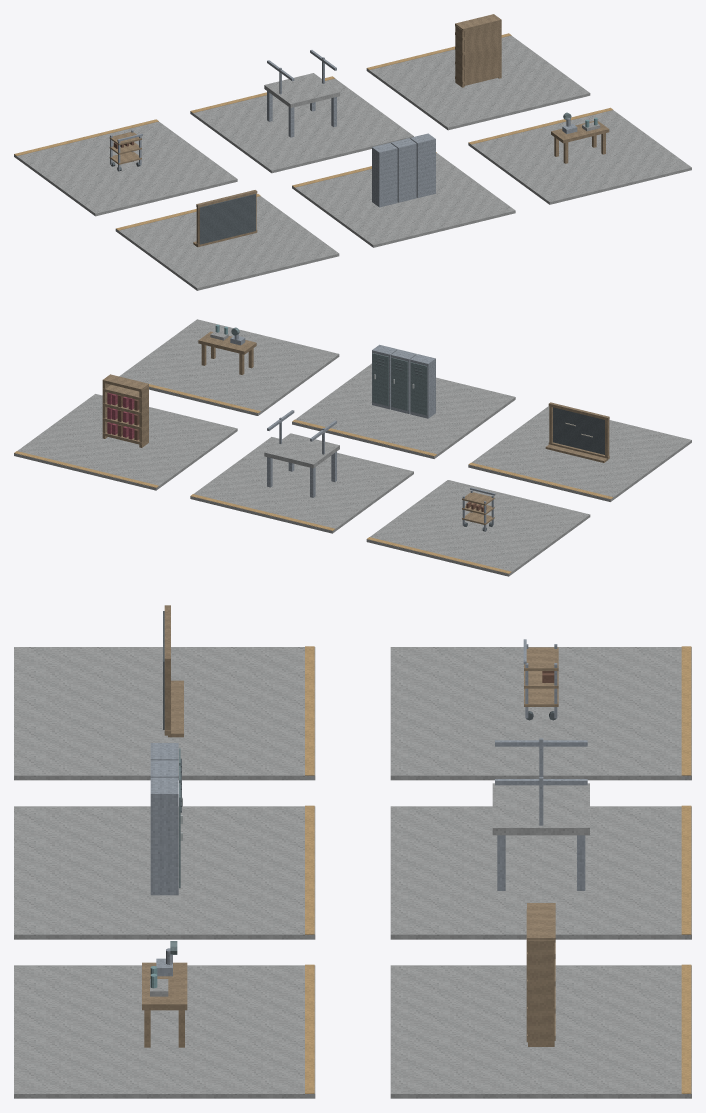
File: level_blockout_kit_college_p03.glb
3 views of the same model, one above another, from view 1: azimuth 30°, elevation 25°; view 2: azimuth 150°, elevation 25°; view 3: azimuth 270°, elevation 25° (orthographic). The views are drawn at different scales.
Parts seen in each view (by area): view 1: level_blockout_kit_college_p03; view 2: level_blockout_kit_college_p03; view 3: level_blockout_kit_college_p03.
Part boxes in pixels (x1,y1,x2,y2): level_blockout_kit_college_p03: (14,14,691,290); level_blockout_kit_college_p03: (14,319,691,576); level_blockout_kit_college_p03: (14,605,691,1098).
Bounding box in the file's own units: 19.65 × 2.4 × 12.6.
Materials: 11 (11 with a texture image).
